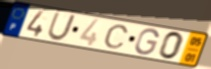0: (157, 31, 187, 61)
4: (78, 18, 101, 48), (25, 9, 45, 38)
C: (102, 24, 130, 50)
G: (133, 28, 161, 57)
U: (46, 12, 78, 42)
